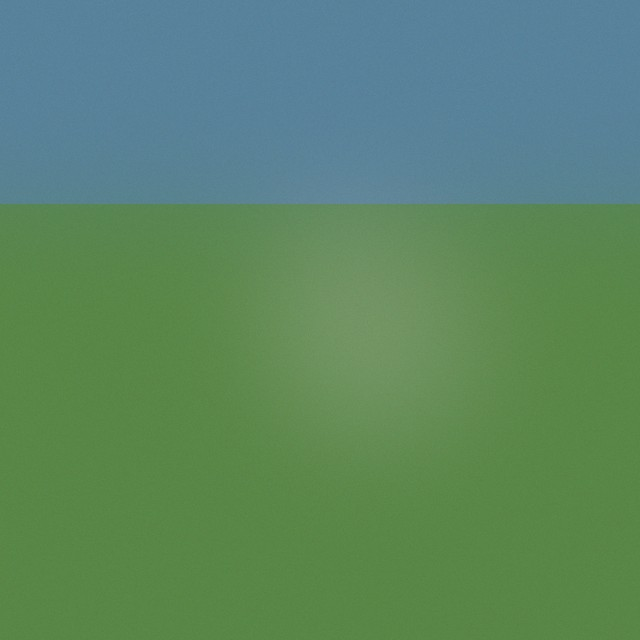smoke: (294, 234, 530, 470)
